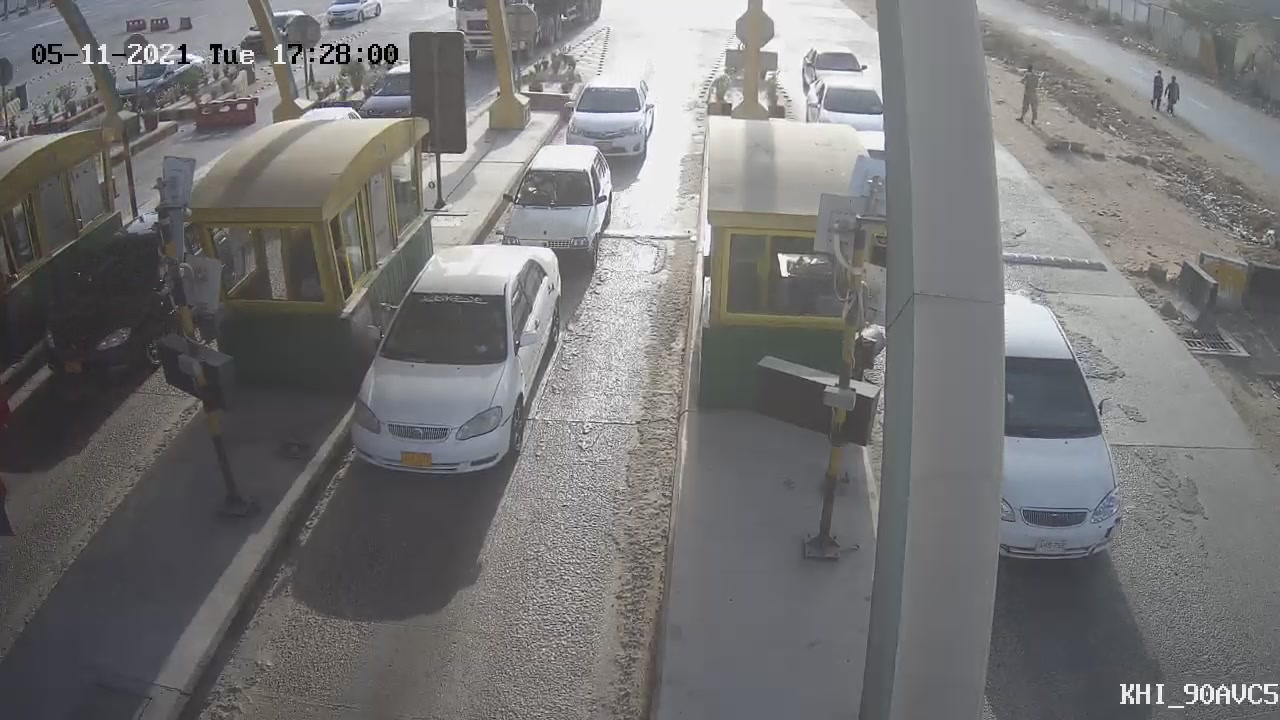F1: (330, 235, 583, 494), (489, 130, 627, 285), (550, 62, 668, 178)
